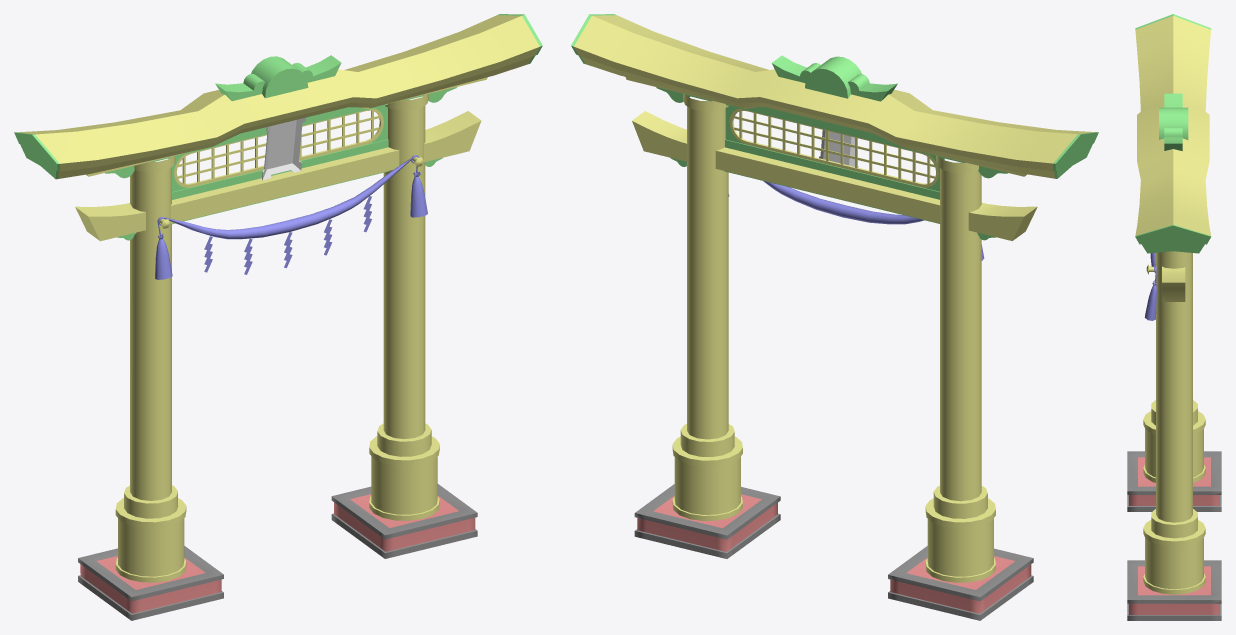
File: SM_ENV_LKNVLD_Torii_Sun_Lod1.gltf
3 views of the same model, side by side, from view 1: azimuth 30°, elevation 25°; view 2: azimuth 150°, elevation 25°; view 3: azimuth 270°, elevation 25° (orthographic). The views are drawn at different scales.
Visible parts, largest first — view 1: SM_ENV_LKNVLD_Torii_Sun_Lod1; view 2: SM_ENV_LKNVLD_Torii_Sun_Lod1; view 3: SM_ENV_LKNVLD_Torii_Sun_Lod1.
Part boxes in pixels (x1,y1,x2,y2): SM_ENV_LKNVLD_Torii_Sun_Lod1: (14, 14, 542, 620); SM_ENV_LKNVLD_Torii_Sun_Lod1: (571, 14, 1098, 620); SM_ENV_LKNVLD_Torii_Sun_Lod1: (1127, 14, 1221, 620).
Size of the model in its own units: 13.61 by 13.11 by 2.56.
